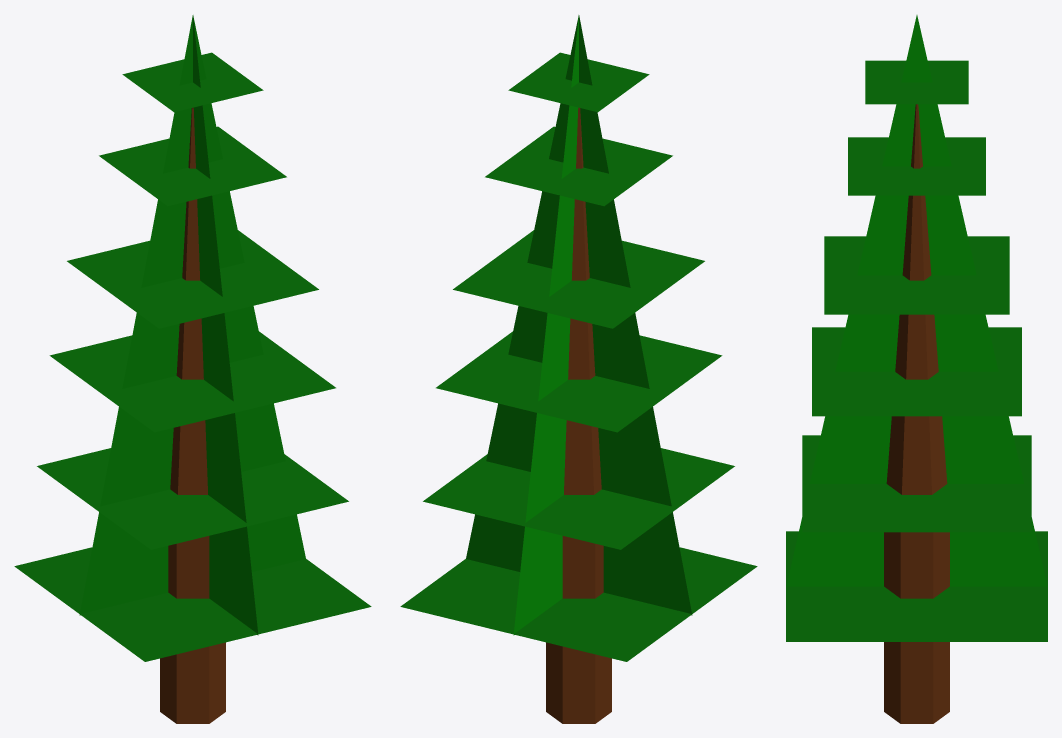
File: tree.fbx
The picture shows the model from 3 angles, left to right: view 1: azimuth 30°, elevation 25°; view 2: azimuth 150°, elevation 25°; view 3: azimuth 270°, elevation 25°; orthographic projection.
Visible parts, largest first — view 1: Plane.001, Plane.002, Cylinder, Plane.003, Plane, Plane.004, Plane.005, Plane.006, Plane.007; view 2: Plane.001, Plane.002, Cylinder, Plane.003, Plane, Plane.004, Plane.005, Plane.006, Plane.007; view 3: Plane, Cylinder, Plane.002, Plane.003, Plane.004, Plane.005, Plane.006, Plane.007.
Boxes of the visible parts, box(x1,y1,x2,y2) form: Plane.001: box(79, 15, 305, 615); Plane.002: box(14, 547, 371, 661); Cylinder: box(160, 107, 225, 723); Plane.003: box(37, 448, 348, 549); Plane: box(193, 16, 258, 635); Plane.004: box(49, 331, 335, 432); Plane.005: box(67, 230, 318, 328); Plane.006: box(99, 126, 286, 206); Plane.007: box(122, 52, 263, 112); Plane.001: box(466, 15, 692, 615); Plane.002: box(400, 547, 757, 661); Cylinder: box(546, 107, 611, 723); Plane.003: box(423, 448, 734, 549); Plane: box(513, 16, 578, 635); Plane.004: box(436, 331, 722, 432); Plane.005: box(453, 230, 704, 328); Plane.006: box(485, 126, 672, 206); Plane.007: box(508, 52, 649, 112); Plane: box(786, 15, 1047, 586); Cylinder: box(884, 104, 949, 723); Plane.002: box(786, 531, 1047, 641); Plane.003: box(802, 435, 1031, 532); Plane.004: box(812, 327, 1021, 416); Plane.005: box(824, 236, 1009, 314); Plane.006: box(848, 137, 985, 195); Plane.007: box(865, 60, 968, 104).
Bounding box in the file's own units: 200 × 588 × 200.
